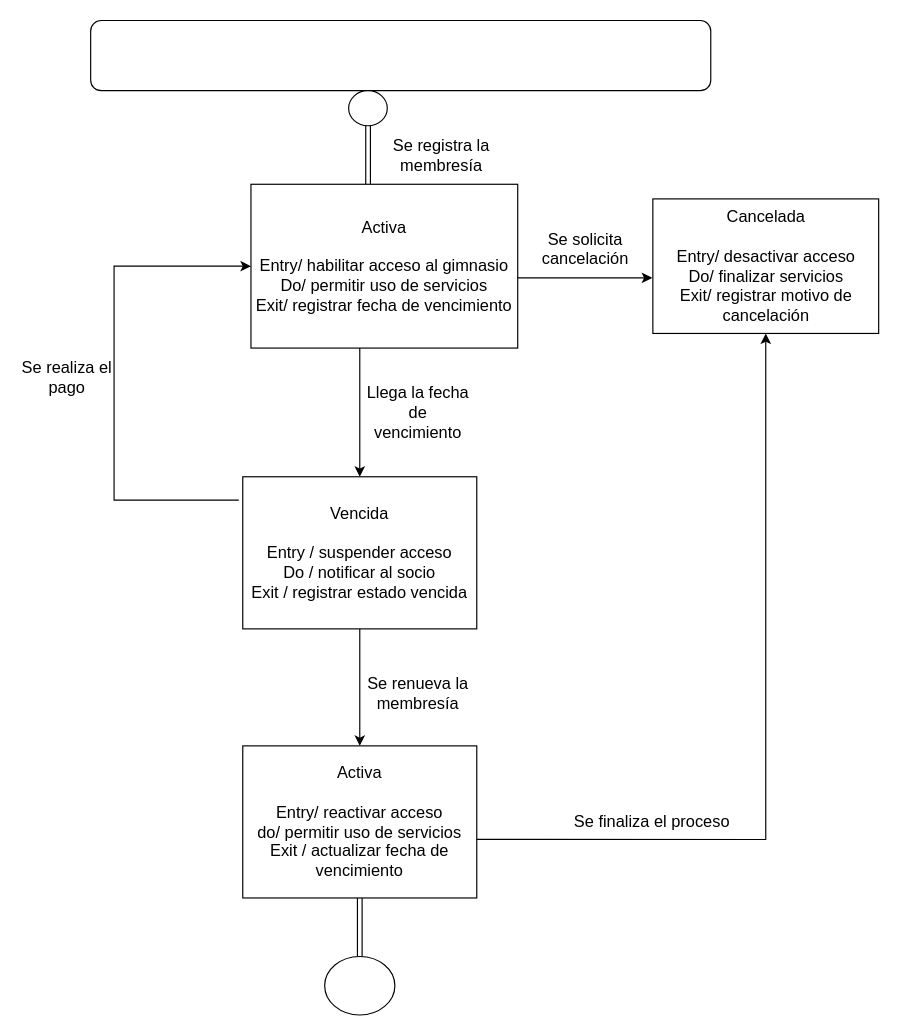
Image size: 899x1035. Some labels were removed from this diagram. Each missing label, with the centre of its shape:
"FIN" belongs at (359,985).
"Sistema de Gestión de Gimnasio -Membresía" belongs at (400,55).
